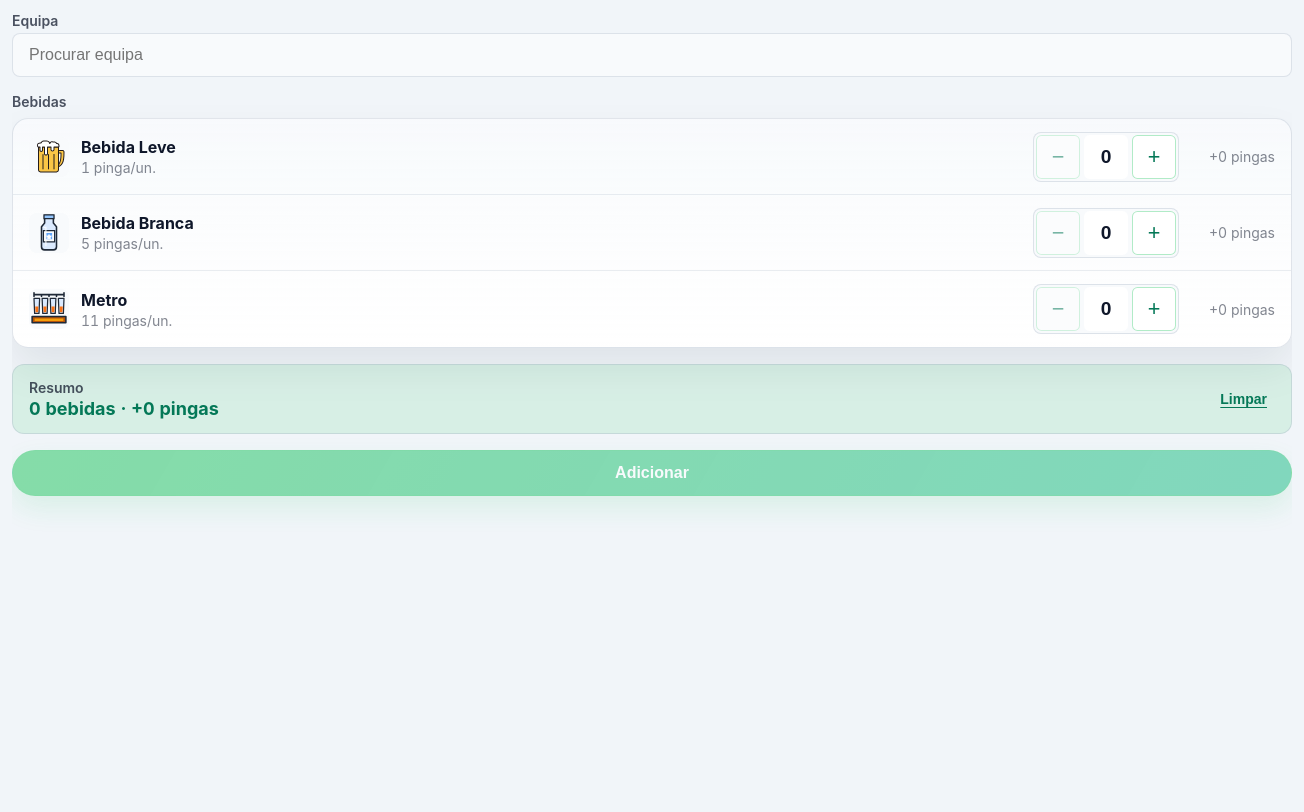
AddPingasPanel drinks workflow › shows and enforces the 50-pinga submission limit
Type "Alfa" into the dropdown named "Procurar equipa" at (652, 55), box [12, 33, 1292, 77]
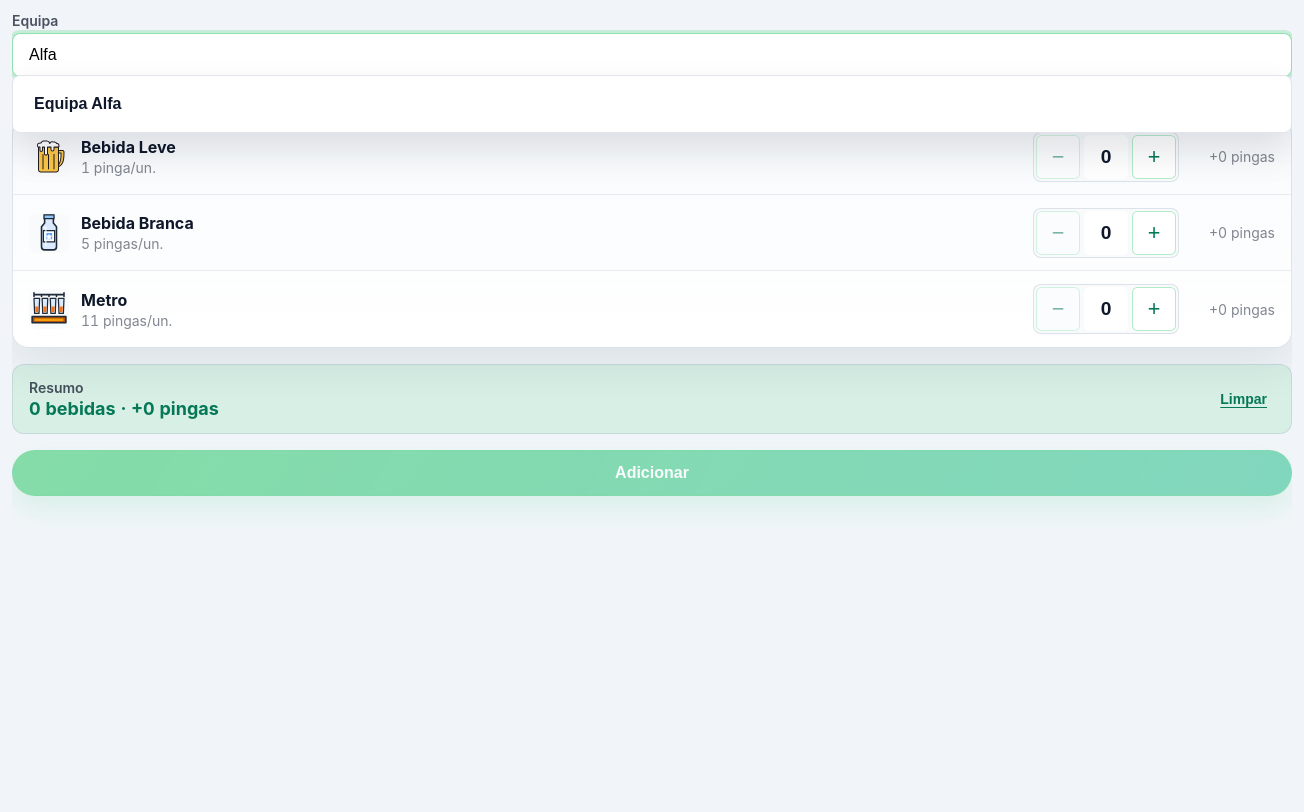
Click the option "Equipa Alfa" at (78, 104), box [17, 80, 1287, 128]
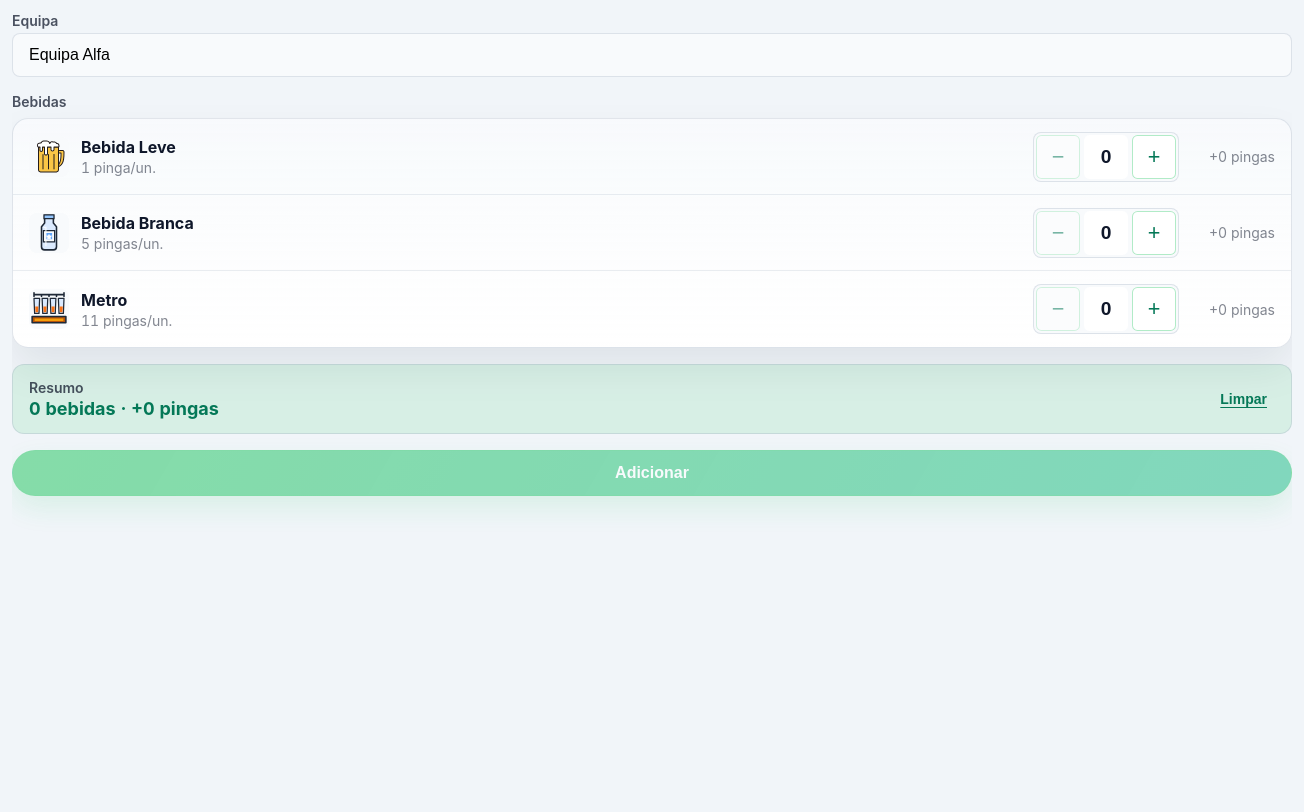
Replace the text in the number field named "Quantidade de Metro" in the row of "11 pingas" with "5" at (1106, 309), box [1084, 287, 1128, 331]
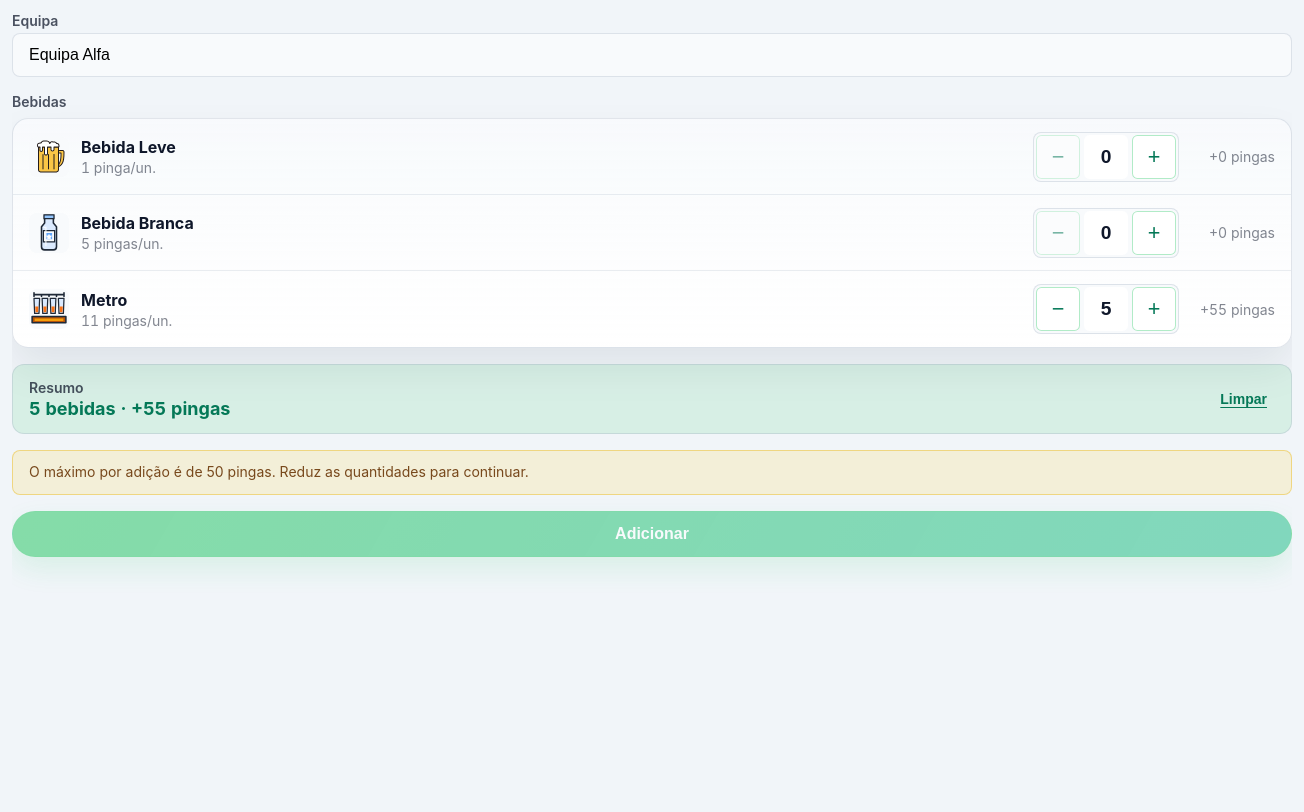
Expected: the button "Adicionar" is disabled, [12, 511, 1292, 557]
Expected: the text "5 bebidas · +55 pingas" is shown, [29, 398, 230, 419]
Expected: the message shows "O máximo por adição é de 50 pingas", [12, 450, 1292, 495]
